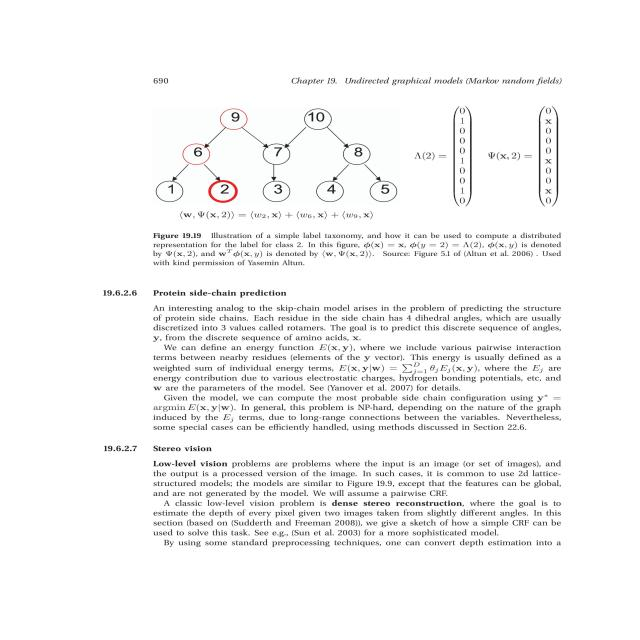diagram: (100, 95, 580, 273)
